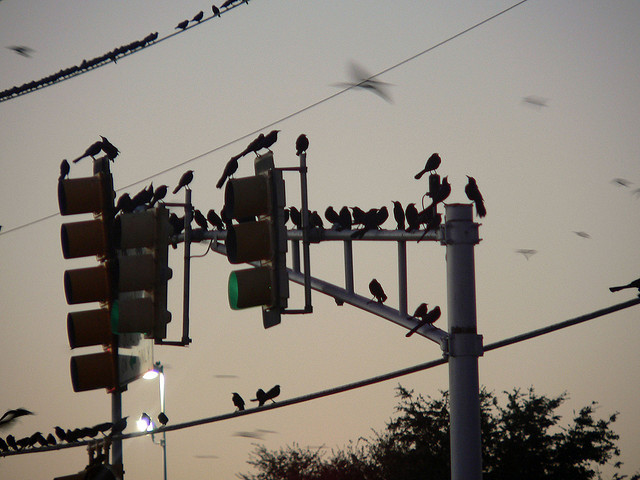Traffic light: (52, 165, 134, 397), (216, 167, 302, 327)
